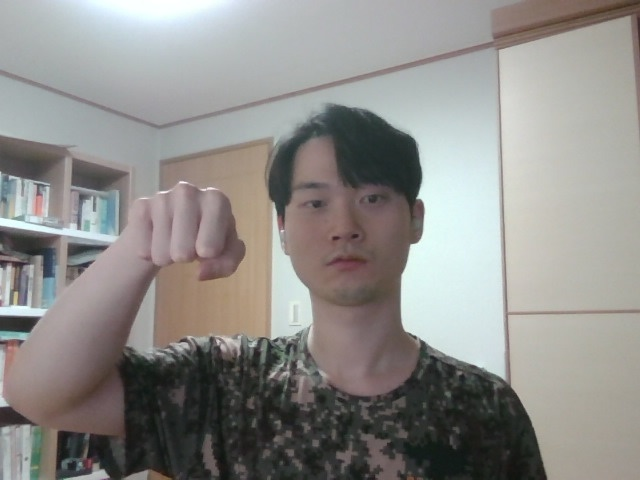yes: (107, 171, 306, 302)
